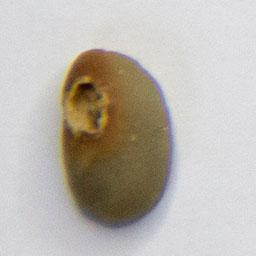defect: (57, 46, 177, 227)
